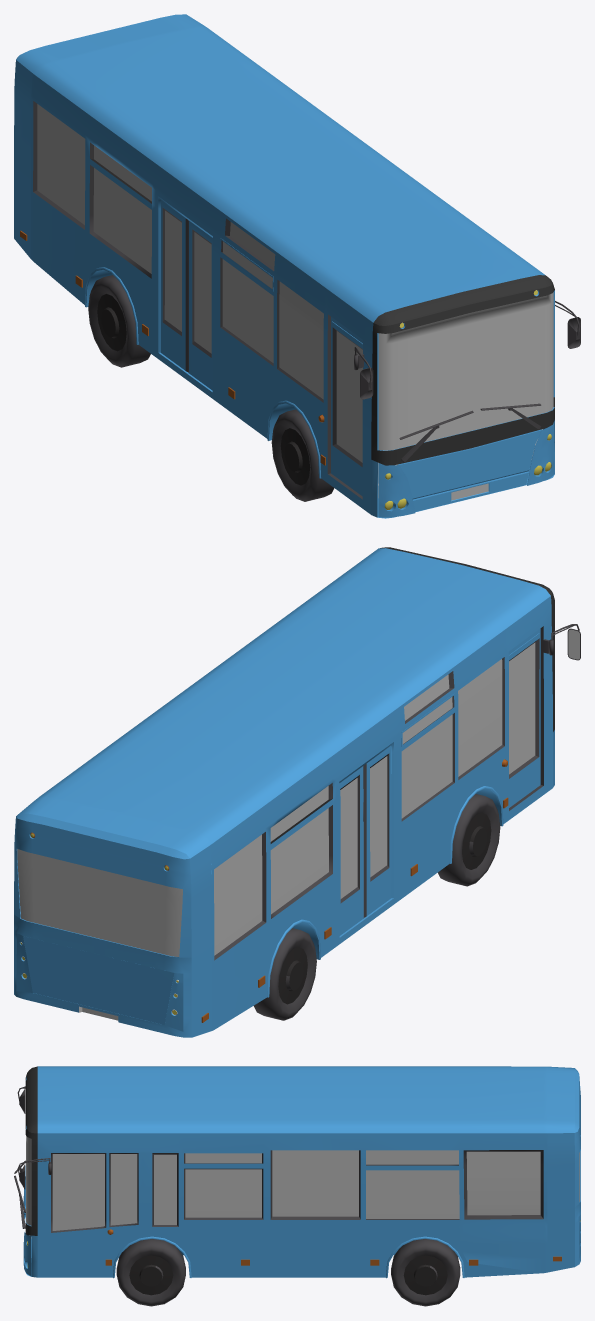
The model's file is bus.gltf.
The picture shows the model from 3 angles, top to bottom: view 1: azimuth 30°, elevation 25°; view 2: azimuth 150°, elevation 25°; view 3: azimuth 270°, elevation 25°; orthographic projection. The views are drawn at different scales.
Parts seen in each view (by area): view 1: Cube.013; view 2: Cube.013; view 3: Cube.013.
Part boxes in pixels (x1,y1,x2,y2): Cube.013: (14,14,580,518); Cube.013: (14,547,580,1037); Cube.013: (14,1066,580,1306).
Bounding box in the file's own units: 2.43 × 2.54 × 7.24.
8 materials, 7 textured.
